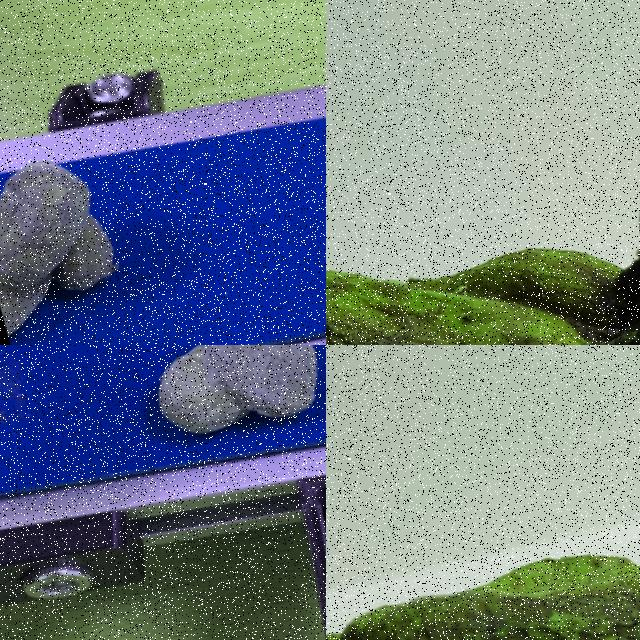Agglomerated_cocoabeans: (326, 137, 639, 344), (326, 453, 639, 639), (0, 115, 242, 344), (10, 345, 325, 508)
